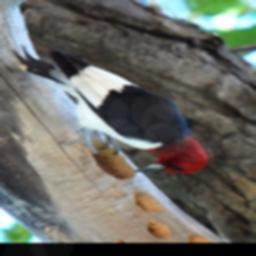Woodpecker: (6, 45, 205, 176)
